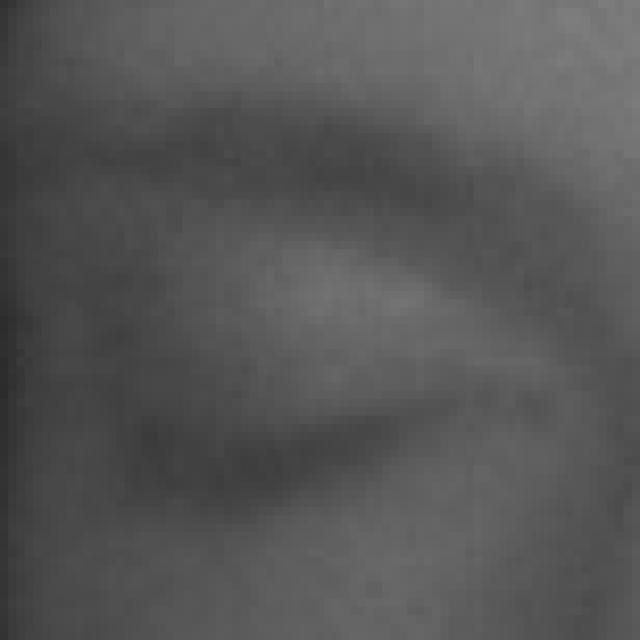Eyeclosed: (94, 288, 455, 597)
